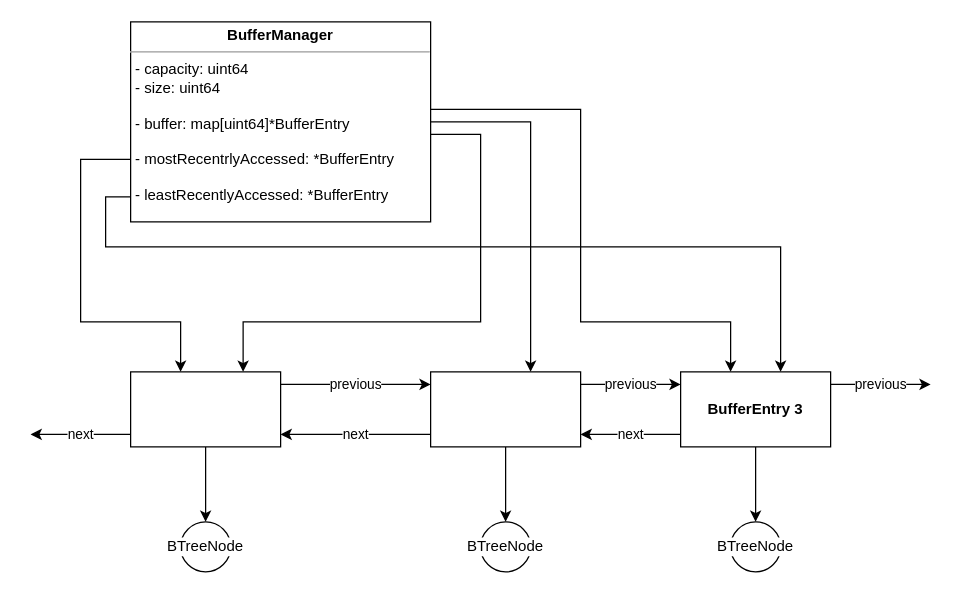
Some shapes in this 963 by 594 pixel diagram are drawn without their labels. The centre of each missing label's shape, as x and y in pixels:
BufferEntry 1: [205,409]
BufferEntry 2: [505,409]
